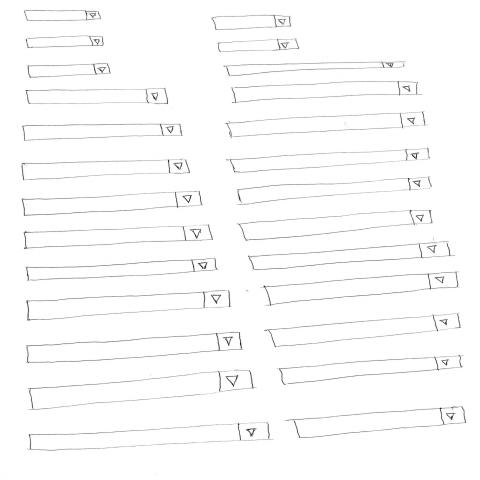Select: (29, 369, 255, 411), (29, 421, 272, 452), (265, 272, 460, 308), (25, 332, 242, 364), (265, 313, 462, 347), (26, 290, 233, 322), (238, 210, 435, 243), (249, 241, 451, 272), (279, 355, 462, 387), (237, 177, 432, 207), (293, 407, 468, 440), (228, 148, 432, 175), (226, 111, 427, 138), (22, 190, 203, 218), (24, 225, 215, 251), (25, 258, 218, 282), (231, 81, 419, 105), (21, 160, 192, 183), (224, 61, 407, 78), (21, 123, 183, 142), (25, 88, 170, 106), (27, 63, 112, 79), (210, 16, 292, 32), (218, 39, 300, 54), (23, 10, 103, 23), (25, 36, 105, 49)
